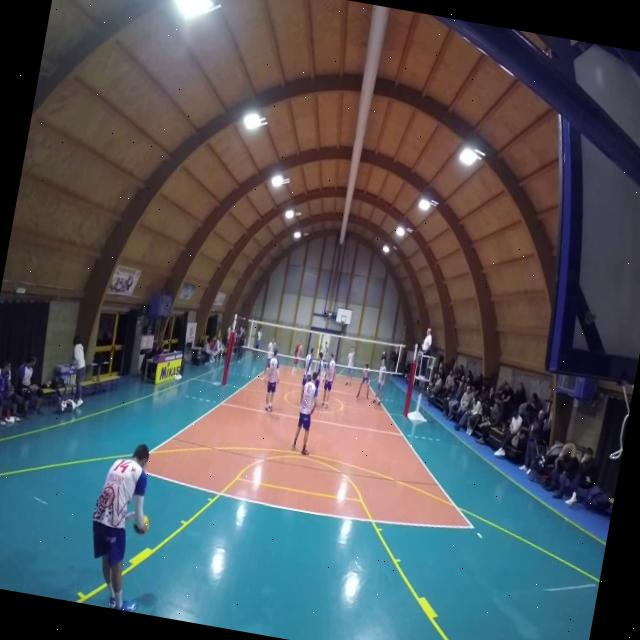Volleyball: (130, 511, 152, 536)
serve: (74, 424, 172, 612)
